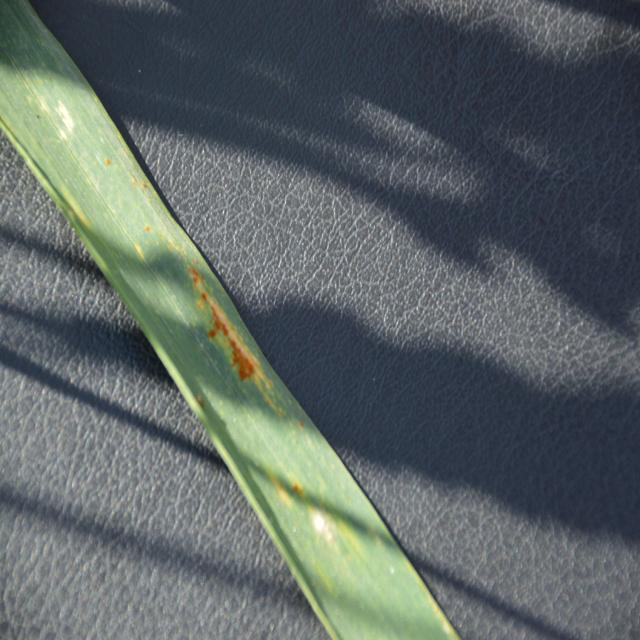wheat-powdery-mildew: (310, 502, 334, 544), (57, 101, 75, 139)
wheat-septoria: (186, 263, 280, 409)
